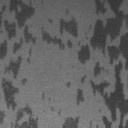red iron: (0, 0, 128, 128), (50, 106, 80, 128), (42, 92, 51, 102), (66, 82, 70, 88), (48, 18, 52, 23)
